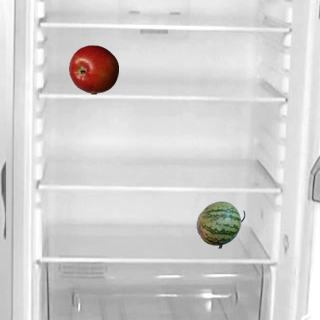Apple Braeburn: (68, 44, 118, 94)
Watermelon: (195, 199, 245, 249)
